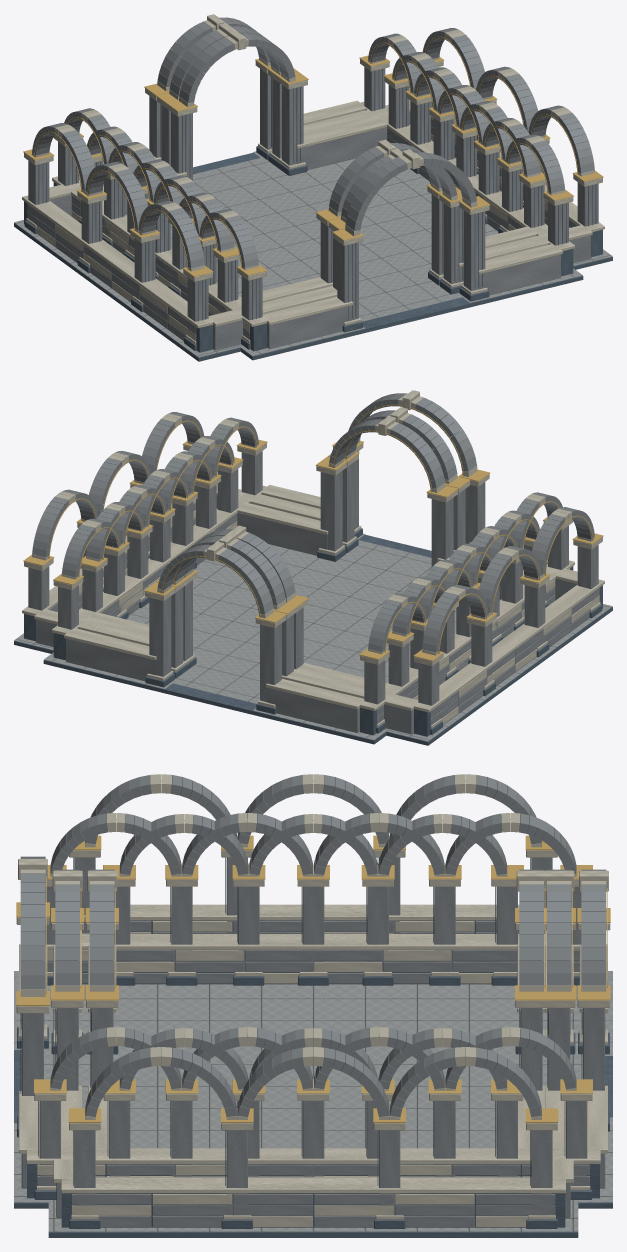
The model's file is moon-courts-v02.glb.
3 renders of one model, top to bottom at view 1: azimuth 30°, elevation 25°; view 2: azimuth 150°, elevation 25°; view 3: azimuth 270°, elevation 25°, orthographic. The views are drawn at different scales.
Parts seen in each view (by area): view 1: ShadeCourt Courts stone, MirrorCourt Courts stone, PanelCourt Courts stone, MirrorFloor Courts floor, PanelFloor Courts floor, MirrorCourt Courts pale, ShadeCourt Courts pale, PanelCourt Courts pale, ShadeCourt Courts recess, ShadeFloor Courts floor, MirrorCourt Courts recess, ShadeFloor Courts recess (+5 smaller); view 2: ShadeCourt Courts stone, MirrorCourt Courts stone, PanelCourt Courts stone, MirrorFloor Courts floor, MirrorCourt Courts pale, ShadeCourt Courts pale, PanelCourt Courts pale, ShadeFloor Courts floor, PanelFloor Courts floor, ShadeFloor Courts recess, ShadeCourt Courts brass, MirrorCourt Courts brass (+5 smaller); view 3: MirrorCourt Courts stone, ShadeCourt Courts stone, PanelCourt Courts stone, PanelFloor Courts floor, MirrorCourt Courts pale, ShadeFloor Courts floor, PanelCourt Courts pale, ShadeCourt Courts pale, MirrorCourt Courts recess, MirrorFloor Courts floor, ShadeCourt Courts recess, ShadeCourt Courts brass (+5 smaller).
Boxes of the visible parts, x1,y1,x2,y2 form: ShadeCourt Courts stone: (57, 17, 568, 348); MirrorCourt Courts stone: (27, 26, 598, 350); PanelCourt Courts stone: (81, 33, 544, 315); MirrorFloor Courts floor: (14, 158, 612, 357); PanelFloor Courts floor: (216, 159, 498, 298); MirrorCourt Courts pale: (22, 23, 604, 344); ShadeCourt Courts pale: (52, 14, 574, 342); PanelCourt Courts pale: (76, 30, 547, 314); ShadeCourt Courts recess: (53, 69, 573, 351); ShadeFloor Courts floor: (171, 151, 582, 355); MirrorCourt Courts recess: (24, 103, 602, 352); ShadeFloor Courts recess: (193, 152, 583, 360); ShadeCourt Courts stone: (58, 393, 568, 732); MirrorCourt Courts stone: (28, 410, 599, 734); PanelCourt Courts stone: (82, 419, 545, 698); MirrorFloor Courts floor: (14, 544, 612, 741); MirrorCourt Courts pale: (22, 407, 604, 728); ShadeCourt Courts pale: (52, 390, 574, 726); PanelCourt Courts pale: (80, 416, 550, 699); ShadeFloor Courts floor: (44, 533, 431, 739); PanelFloor Courts floor: (133, 546, 456, 673); ShadeFloor Courts recess: (43, 534, 431, 744); ShadeCourt Courts brass: (53, 404, 569, 659); MirrorCourt Courts brass: (23, 420, 603, 661); MirrorCourt Courts stone: (55, 775, 571, 1226); ShadeCourt Courts stone: (20, 813, 606, 1188); PanelCourt Courts stone: (89, 814, 543, 1177); PanelFloor Courts floor: (83, 984, 547, 1148); MirrorCourt Courts pale: (51, 774, 575, 1226); ShadeFloor Courts floor: (14, 971, 612, 1202); PanelCourt Courts pale: (86, 814, 547, 1177); ShadeCourt Courts pale: (16, 813, 610, 1190); MirrorCourt Courts recess: (51, 857, 575, 1228); MirrorFloor Courts floor: (48, 984, 578, 1231); ShadeCourt Courts recess: (17, 886, 609, 1199); ShadeCourt Courts brass: (16, 819, 610, 1093).
Size of the model in its own units: 19.8 by 7.38 by 17.3.
Materials: 5 (4 with a texture image).
